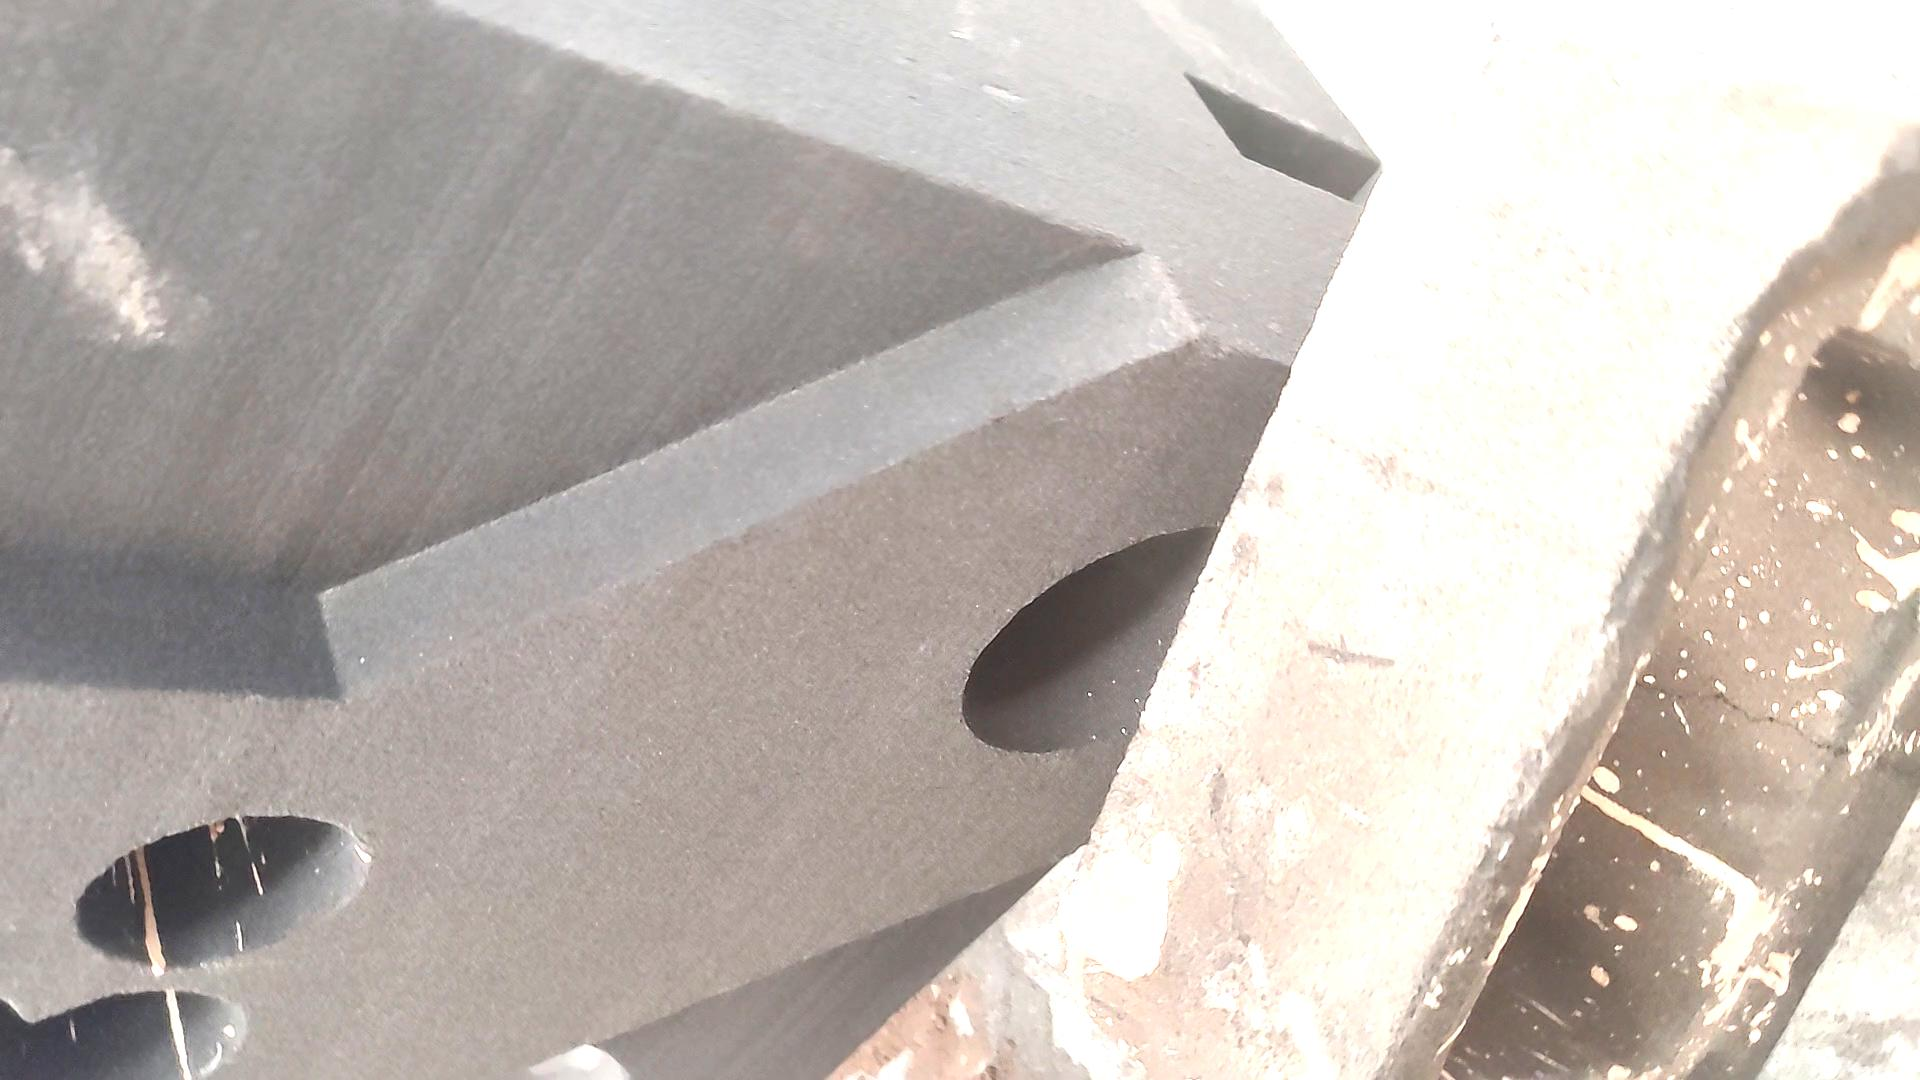pouring hole: (960, 525, 1245, 753)
